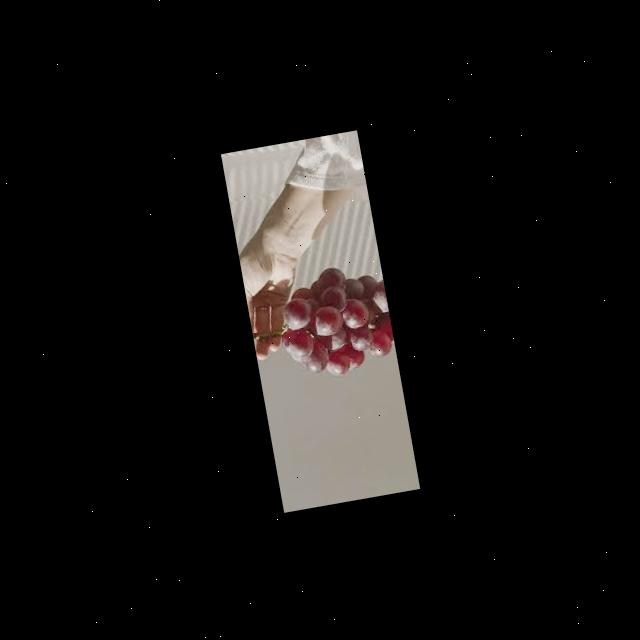grape: (264, 254, 399, 388)
